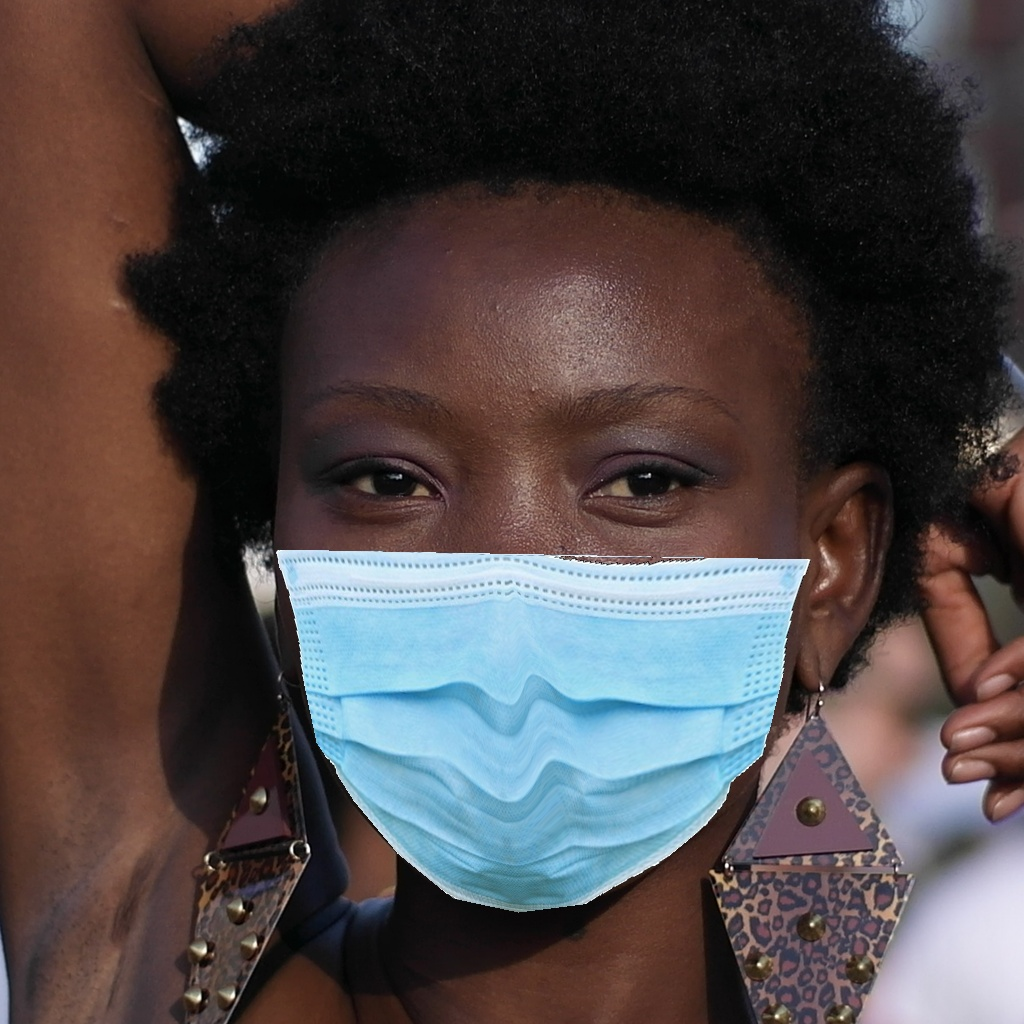Mask: (270, 342, 811, 914)
